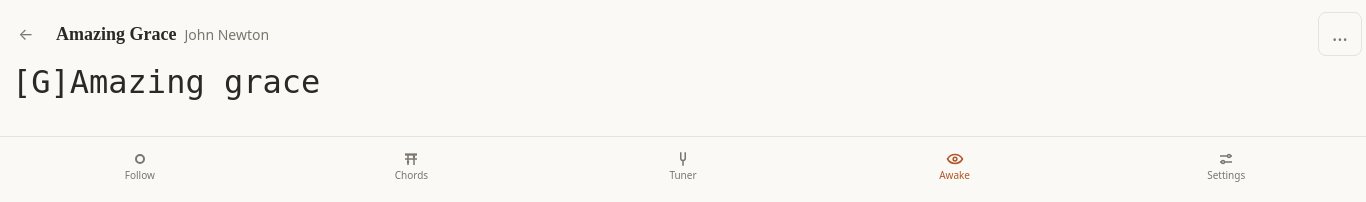
Test case: PlayPage Follow debug switch › offers it alongside the other chart actions when capture is on
Click the button named "Chart actions".
click(1340, 34)  # box [1318,12,1362,56]
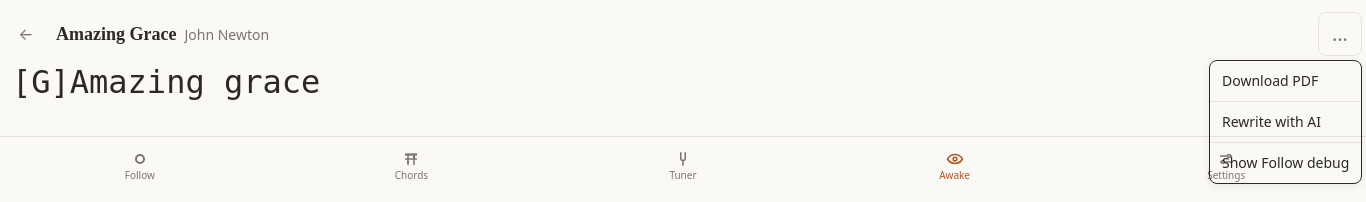
Now the menu is shown, box [1209,60,1362,184]
Now the menu item "Show Follow debug" is shown, box [1222,153,1349,172]
